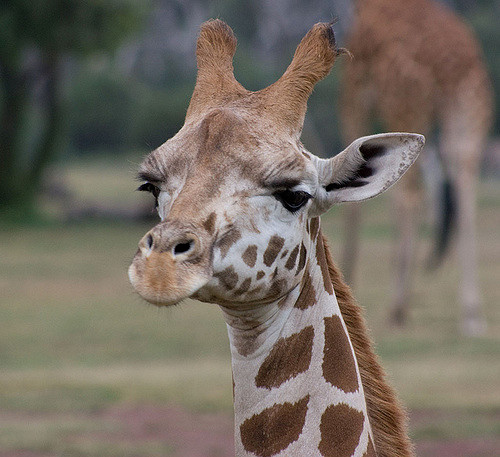giraffe: (135, 19, 438, 444)
